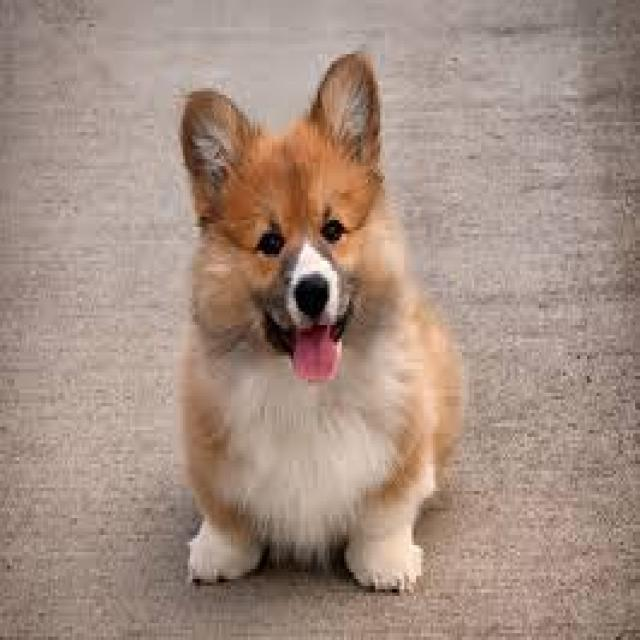CORGI: (161, 56, 462, 600)
